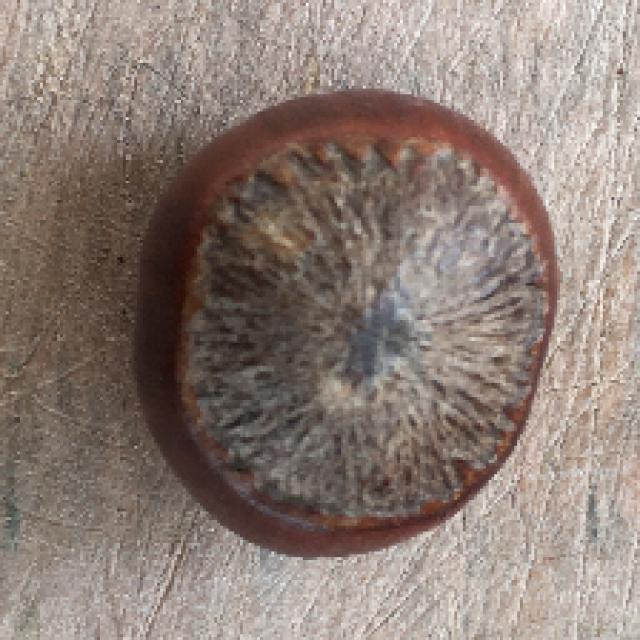DamagedHazelnut: (132, 86, 562, 564)
